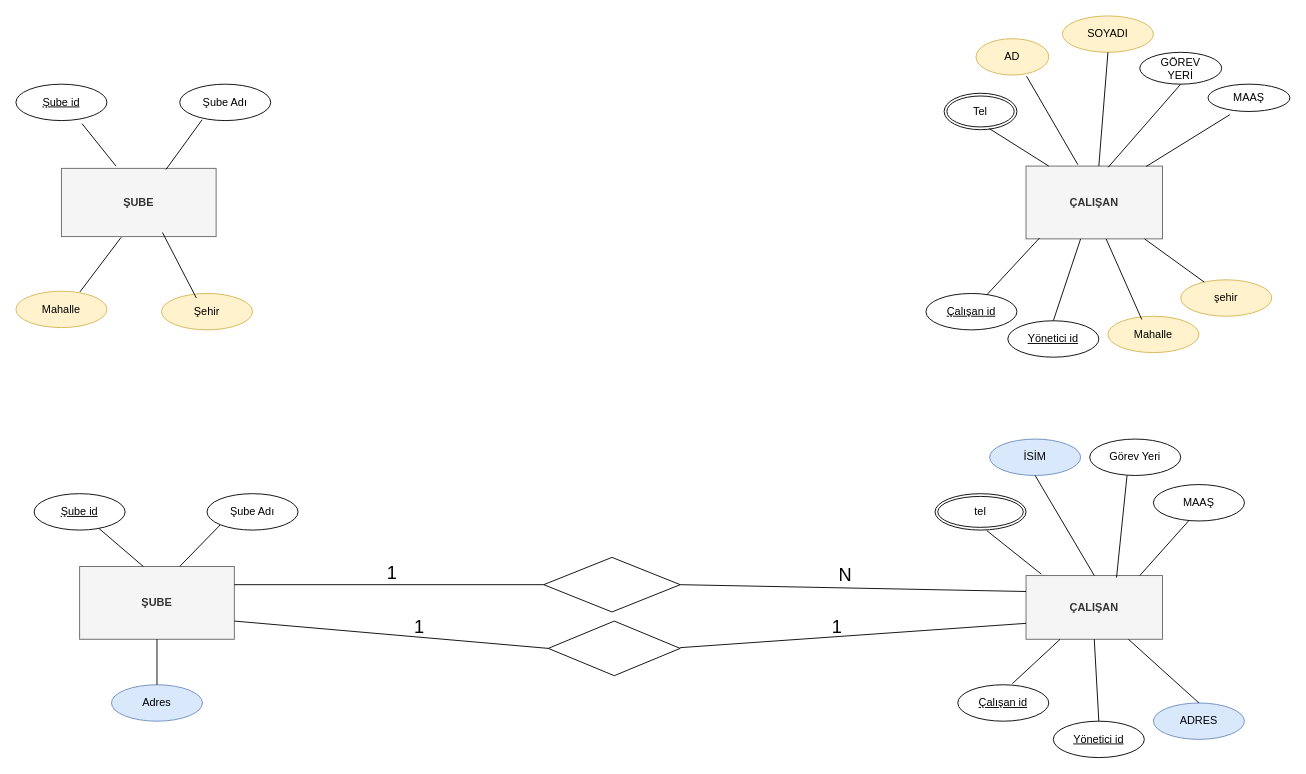
Some shapes in this 1306 by 774 pixel diagram are drawn without their labels. Here are the shapes that lost their labels. From the top down, the centre of each, then its label:
(611,584): Çalışma
(613,648): Yönetici
